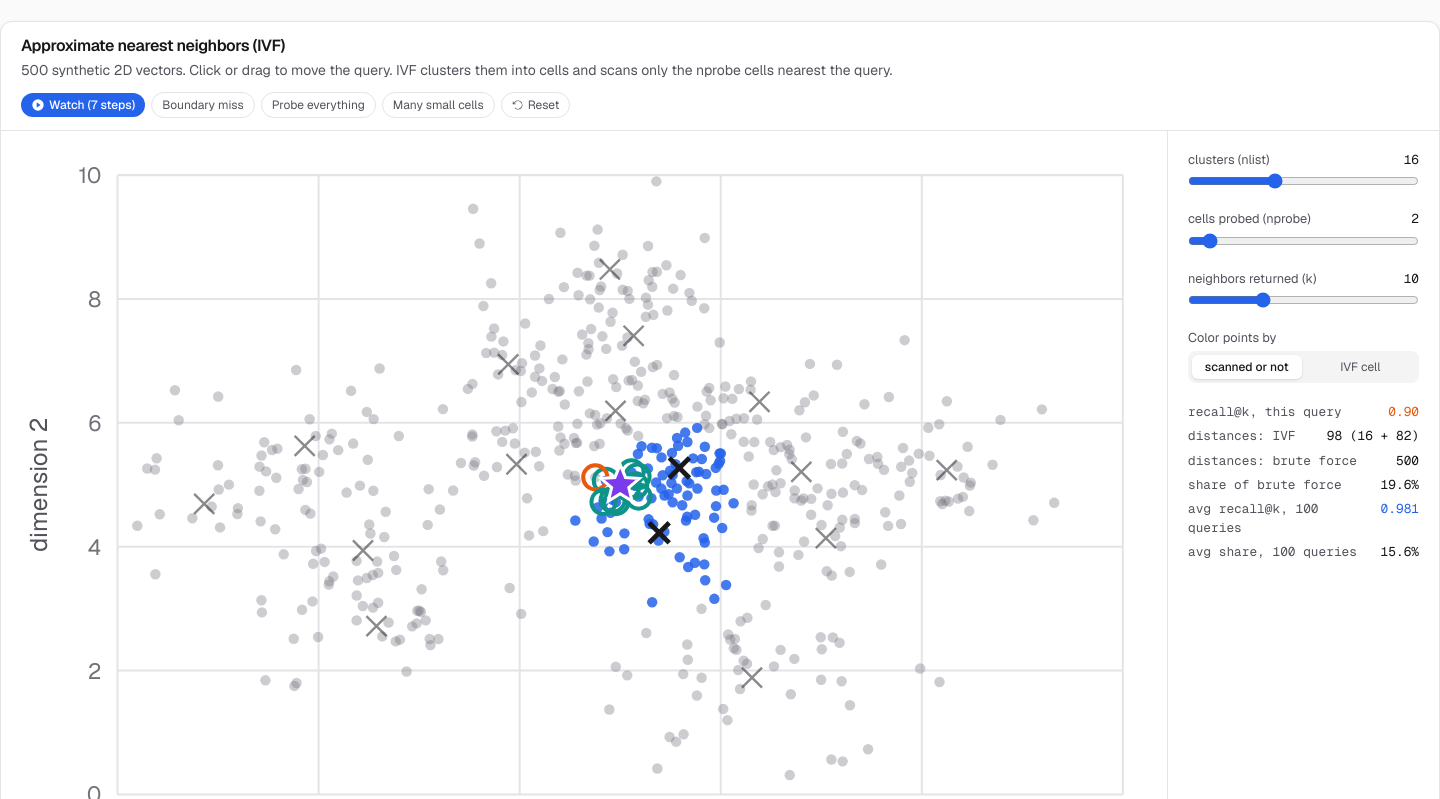
Test: vector search lab math matches the lesson › renders and presets work
The width and height of the screenshot is (1440, 799).
Click the button "Probe everything" at {"x": 318, "y": 105}, box [261,92,376,118]
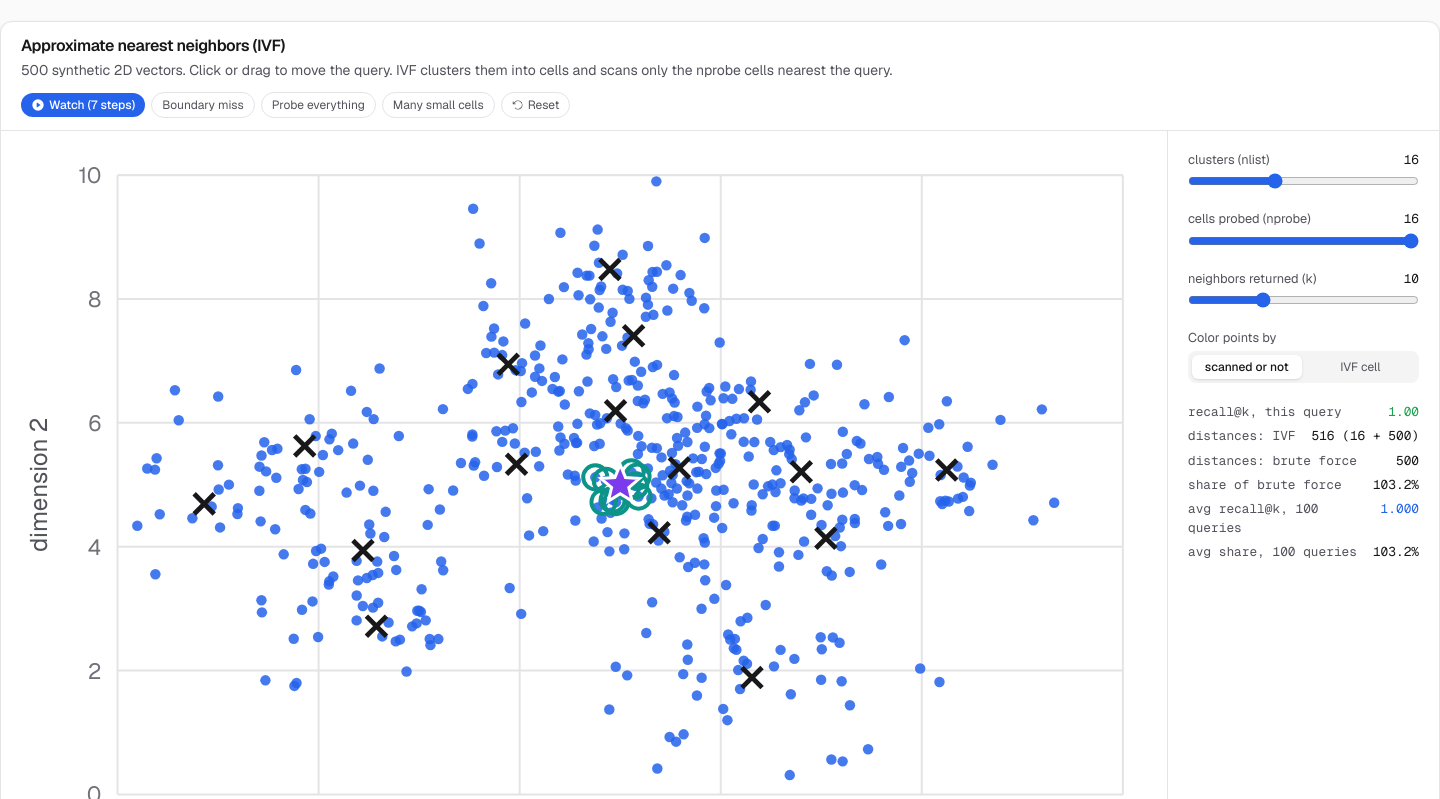
Click the button "Boundary miss" at {"x": 203, "y": 105}, box [151,92,255,118]
(page scrolled)
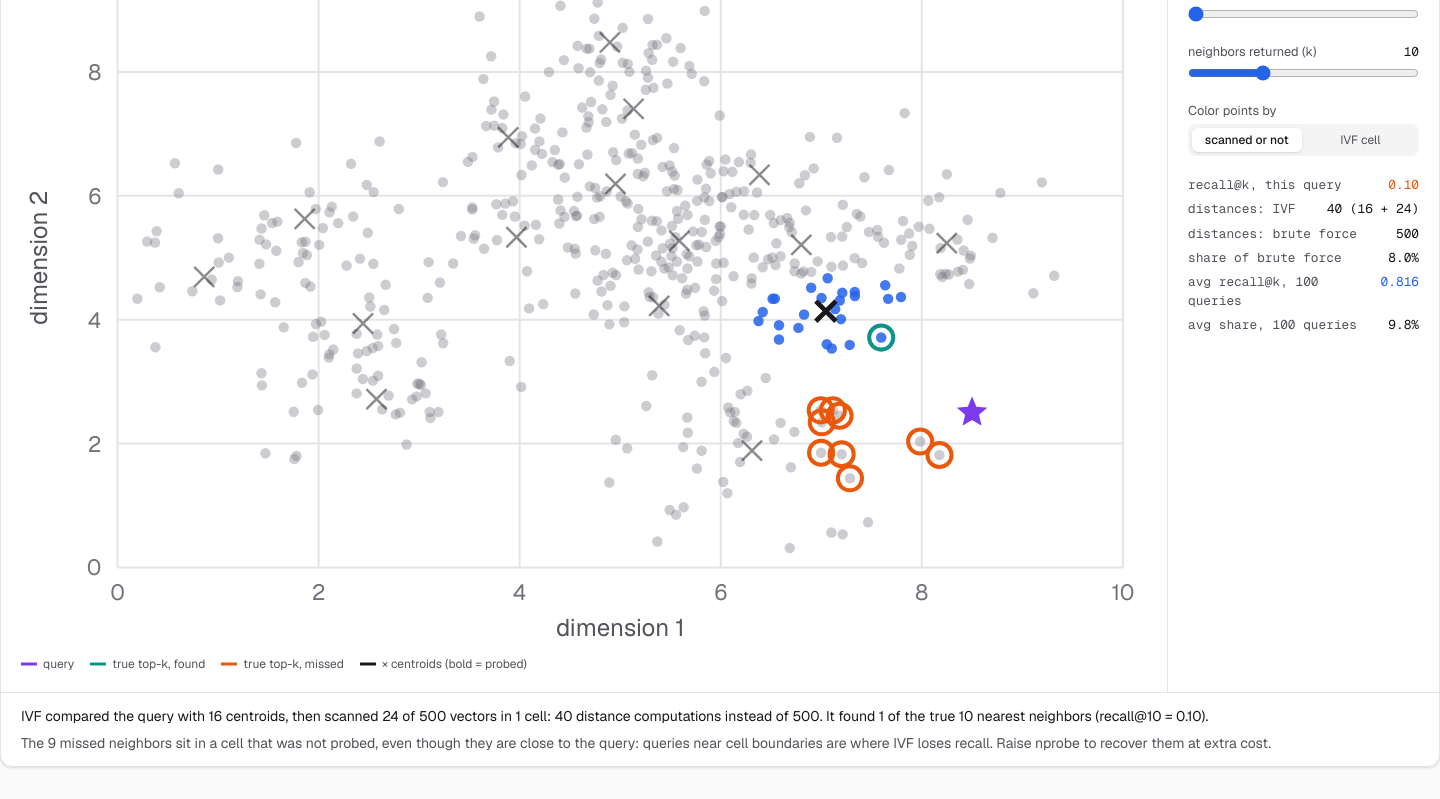
Expected: the text "missed neighbor" is shown, [21,734,1271,752]
